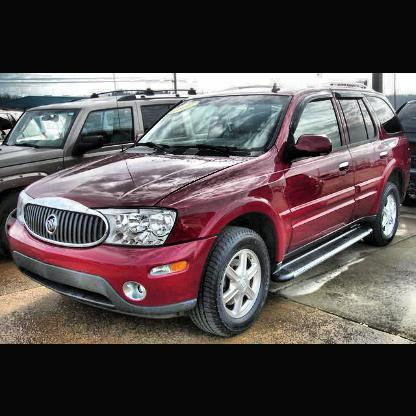Buick Rainier SUV 2007: (10, 80, 416, 340)
